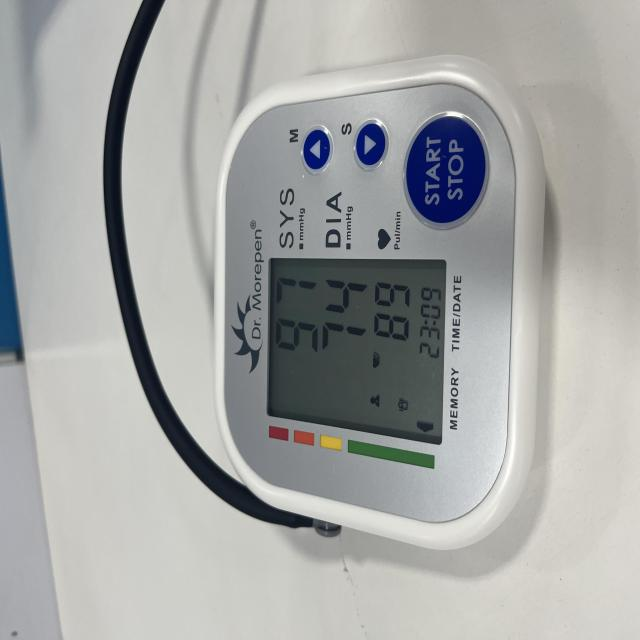bp: (208, 54, 544, 550)
